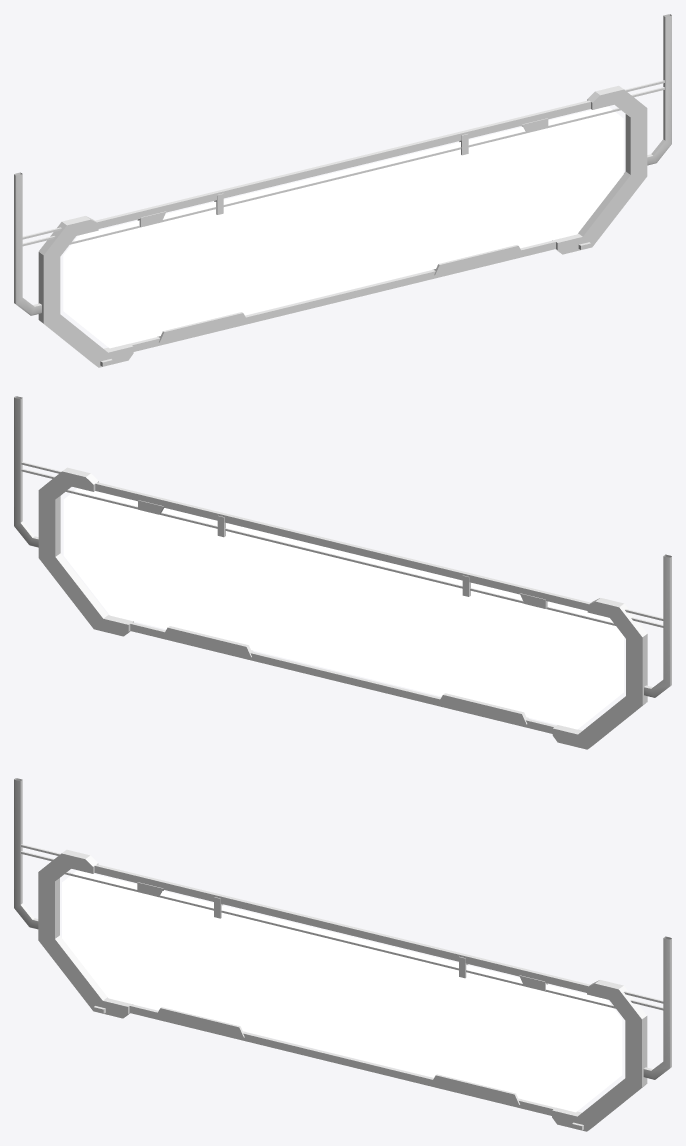
Rendered from KB3D_FTW_PropSign_A_grp.glb.
3 renders of one model, top to bottom at view 1: azimuth 30°, elevation 25°; view 2: azimuth 150°, elevation 25°; view 3: azimuth 330°, elevation 25°, orthographic.
Parts seen in each view (by area): view 1: KB3D_FTW_PropSign_A_Main; view 2: KB3D_FTW_PropSign_A_Main; view 3: KB3D_FTW_PropSign_A_Main.
Boxes of the visible parts, left/top/right/bottom form: KB3D_FTW_PropSign_A_Main: left=14, top=14, right=671, bottom=367; KB3D_FTW_PropSign_A_Main: left=14, top=396, right=671, bottom=749; KB3D_FTW_PropSign_A_Main: left=14, top=778, right=671, bottom=1131.
Size of the model in its own units: 2.88 by 0.8832 by 0.0524.
Materials: 4 (1 with a texture image).
